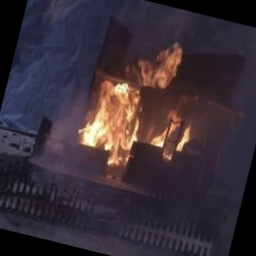fire: (74, 26, 198, 181)
